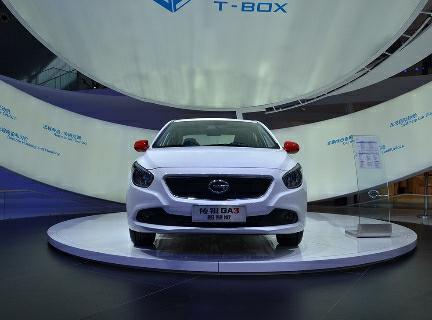广汽传祺-传祺GA3: (121, 110, 312, 258)
